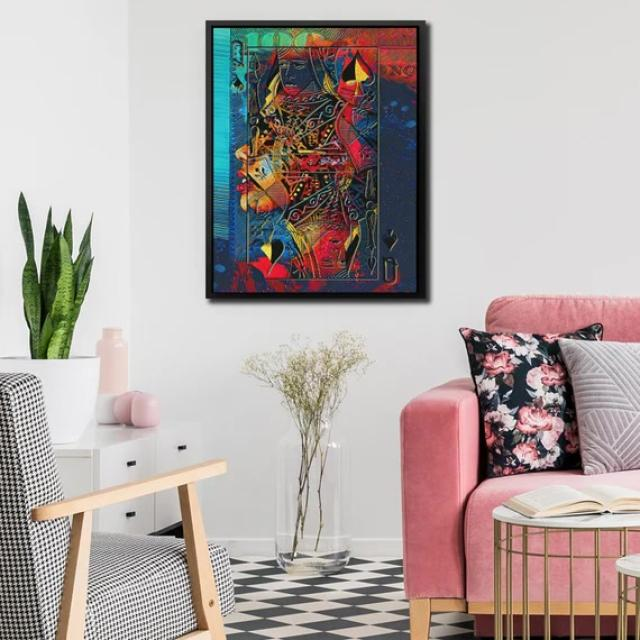painting: (206, 18, 427, 300)
